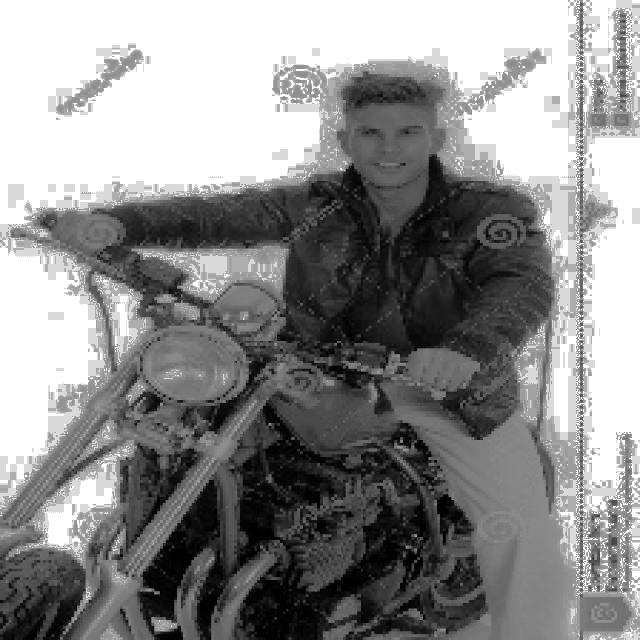Bike: (2, 272, 472, 638)
